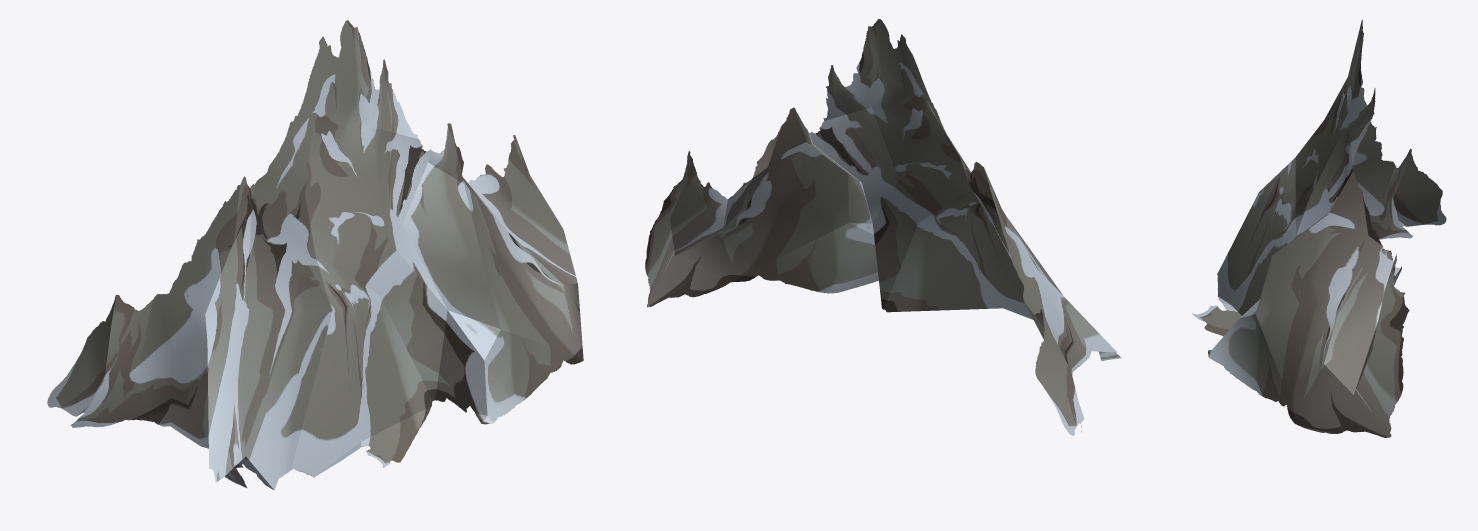
Rendered from distant_mountain_01.obj.
The picture shows the model from 3 angles, left to right: view 1: azimuth 30°, elevation 25°; view 2: azimuth 150°, elevation 25°; view 3: azimuth 270°, elevation 25°; orthographic projection. The views are drawn at different scales.
Visible parts, largest first — view 1: Plane; view 2: Plane; view 3: Plane.
Boxes of the visible parts, x1=… form: Plane: x1=47, y1=20, x2=583, y2=490; Plane: x1=645, y1=19, x2=1121, y2=435; Plane: x1=1192, y1=20, x2=1446, y2=437.
Bounding box in the file's own units: 1026 × 804 × 561.
